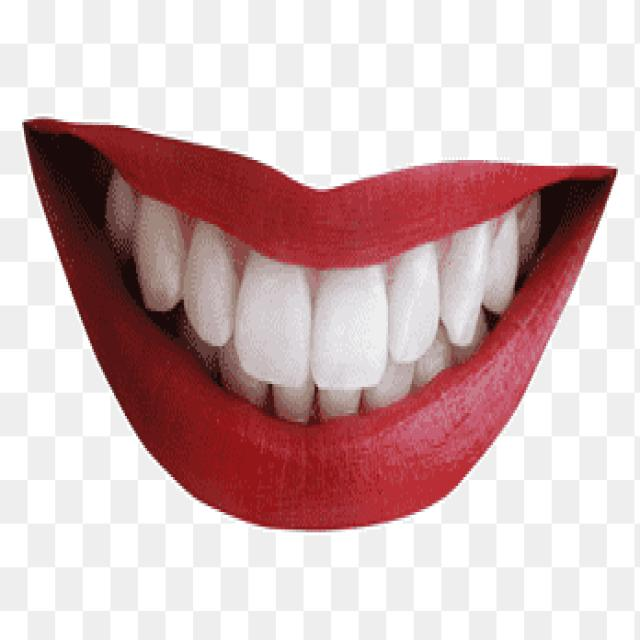tooth: (178, 215, 234, 317), (327, 264, 379, 364), (379, 276, 430, 364), (309, 369, 364, 422), (478, 224, 515, 297), (140, 215, 178, 282), (233, 285, 310, 317), (364, 366, 408, 419), (452, 308, 490, 366), (440, 244, 469, 314), (108, 180, 127, 242), (226, 343, 248, 387), (408, 366, 449, 387), (274, 376, 303, 404)
